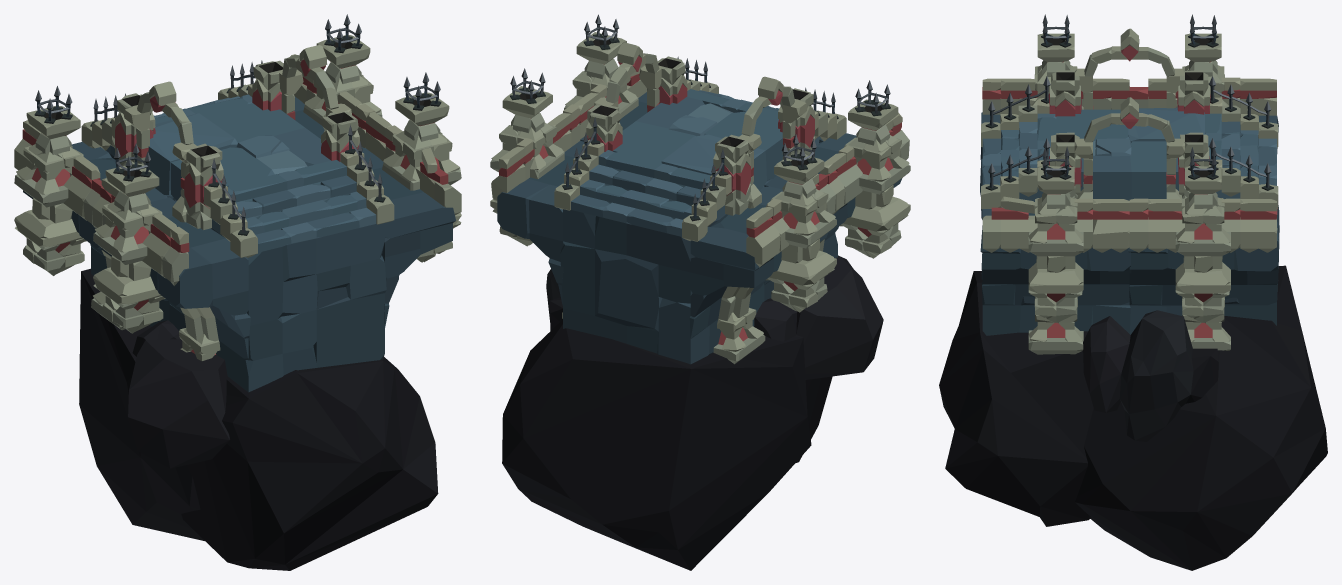
The model's file is hallway_I_04_rise.fbx.
3 renders of one model, left to right at view 1: azimuth 30°, elevation 25°; view 2: azimuth 150°, elevation 25°; view 3: azimuth 270°, elevation 25°, orthographic. The views are drawn at different scales.
Visible parts, largest first — view 1: hallway_I_04_rise; view 2: hallway_I_04_rise; view 3: hallway_I_04_rise.
Part boxes in pixels (bbox=[...]): hallway_I_04_rise: bbox=[14, 14, 461, 570]; hallway_I_04_rise: bbox=[490, 14, 910, 570]; hallway_I_04_rise: bbox=[939, 14, 1327, 570].
Bounding box in the file's own units: 1000 × 1430 × 1057.
